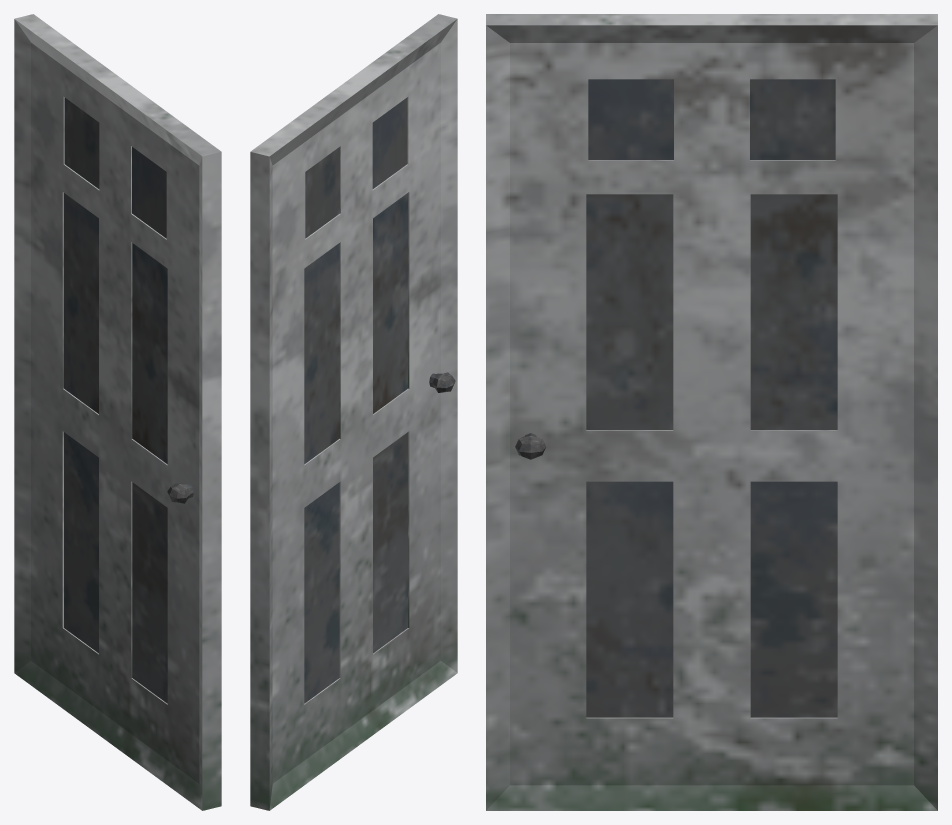
The model's file is Door_SM.fbx.
The picture shows the model from 3 angles, left to right: view 1: azimuth 30°, elevation 25°; view 2: azimuth 150°, elevation 25°; view 3: azimuth 270°, elevation 25°; orthographic projection. The views are drawn at different scales.
Parts seen in each view (by area): view 1: Box001; view 2: Box001; view 3: Box001.
Part boxes in pixels (box(x1,y1,x2,y2)): Box001: box(14, 14, 221, 810); Box001: box(250, 14, 457, 810); Box001: box(486, 14, 937, 810).
Bounding box in the file's own units: 17.78 × 232 × 121.
